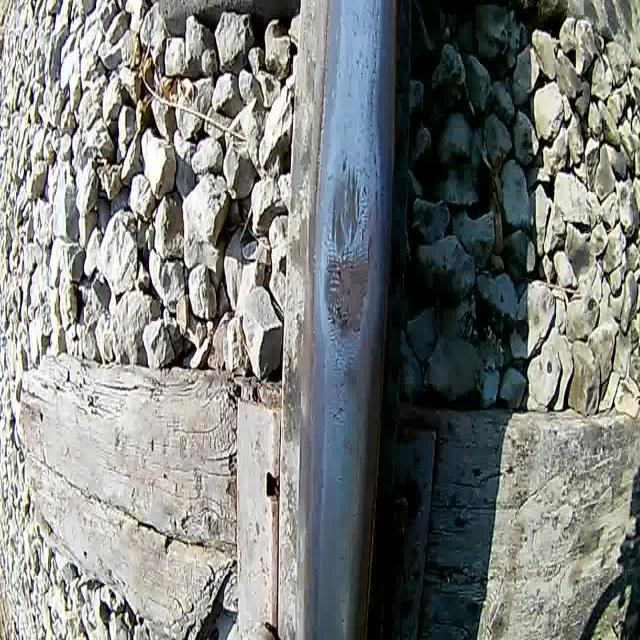Cracks: (366, 0, 385, 227), (322, 233, 376, 275), (344, 156, 362, 228), (328, 190, 339, 247)
Spallings: (325, 303, 364, 337)
Squats: (320, 229, 376, 343), (324, 147, 365, 256)
